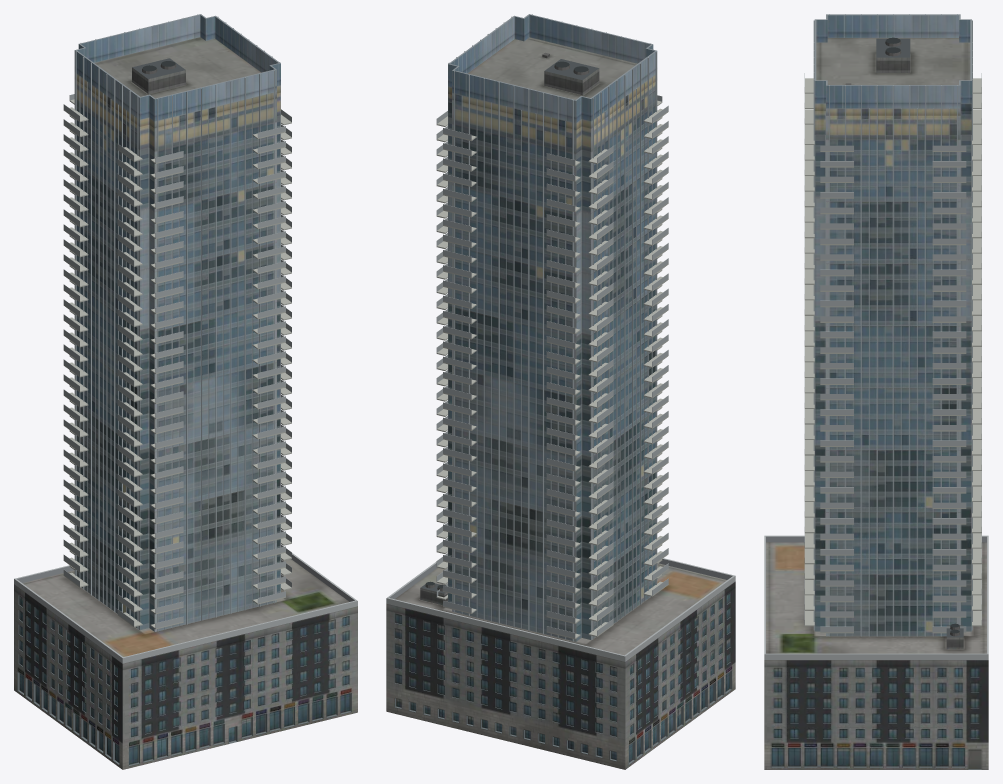
Rendered from seattle_condotower_b.glb.
3 views of the same model, side by side, from view 1: azimuth 30°, elevation 25°; view 2: azimuth 150°, elevation 25°; view 3: azimuth 270°, elevation 25° (orthographic). The views are drawn at different scales.
Visible parts, largest first — view 1: seattle_condotower_b; view 2: seattle_condotower_b; view 3: seattle_condotower_b.
Boxes of the visible parts, <box> form: seattle_condotower_b: <box>14,14,357,769</box>; seattle_condotower_b: <box>386,14,735,769</box>; seattle_condotower_b: <box>764,14,988,769</box>.
Bounding box in the file's own units: 50 × 130 × 40.
1 material, 1 textured.
